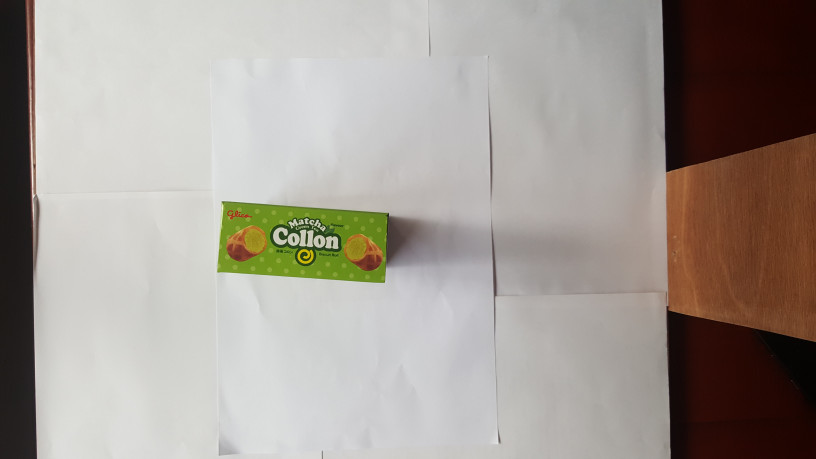collon-matcha: (214, 199, 393, 286)
